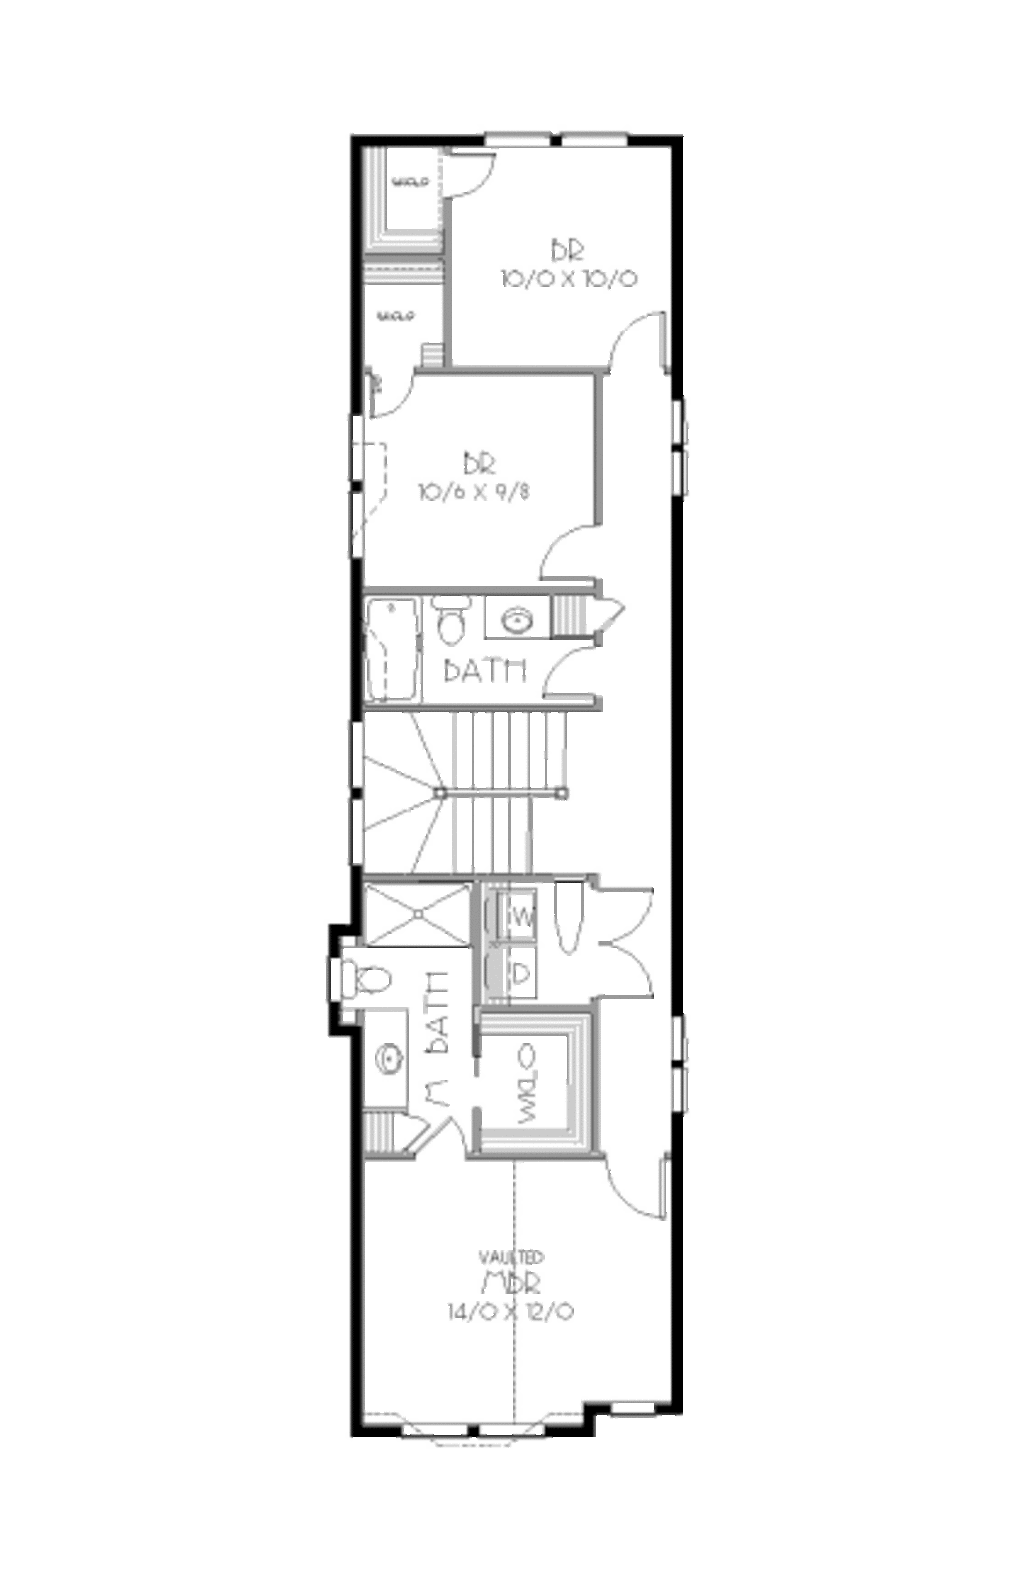door: (598, 892, 668, 1019), (590, 1153, 678, 1229), (597, 299, 673, 375), (529, 512, 604, 590), (529, 636, 602, 712), (434, 138, 507, 204), (363, 360, 429, 426), (407, 1104, 464, 1160)
large_sink: (326, 963, 412, 1010), (417, 587, 470, 658)
small_sink: (363, 1025, 414, 1102), (485, 603, 545, 642)
stairs: (363, 708, 587, 870)
tub: (363, 585, 414, 699)
window: (480, 123, 639, 153), (342, 441, 381, 563), (670, 392, 692, 495)
